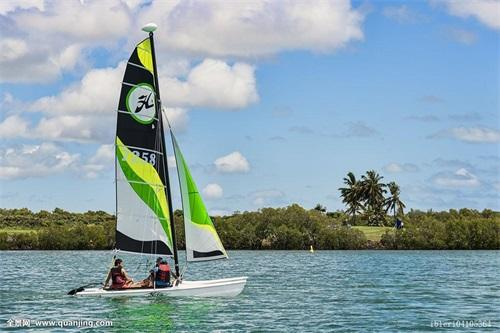Ship: (75, 24, 250, 301)
